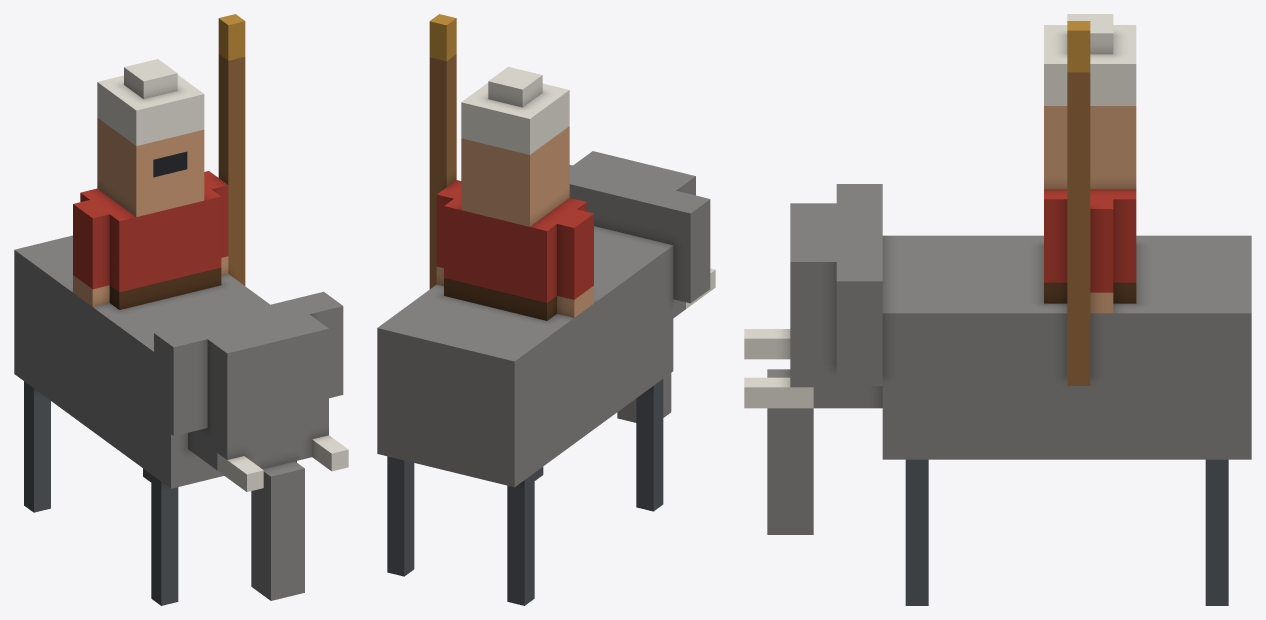
The model's file is u_elephant.glb.
3 renders of one model, left to right at view 1: azimuth 30°, elevation 25°; view 2: azimuth 150°, elevation 25°; view 3: azimuth 270°, elevation 25°, orthographic. The views are drawn at different scales.
Parts seen in each view (by area): view 1: u_elephant_body; view 2: u_elephant_body; view 3: u_elephant_body.
Part boxes in pixels (<box>): u_elephant_body: <box>14,14,348,605</box>; u_elephant_body: <box>377,14,715,605</box>; u_elephant_body: <box>744,14,1251,605</box>.
Bounding box in the file's own units: 0.625 × 1.75 × 1.38.
1 material, 1 textured.
